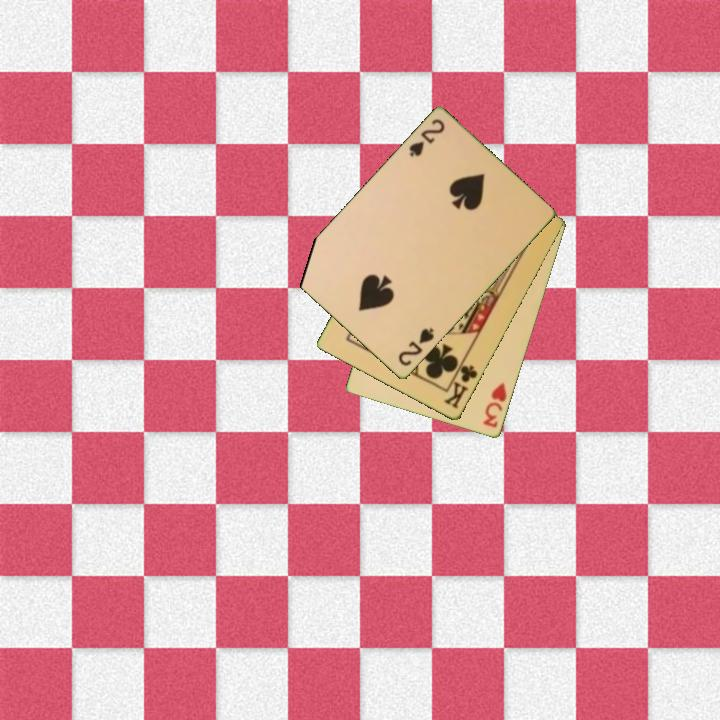2s: (405, 116, 448, 161), (395, 324, 437, 369)
3h: (480, 379, 510, 431)
Kc: (441, 356, 481, 412)
